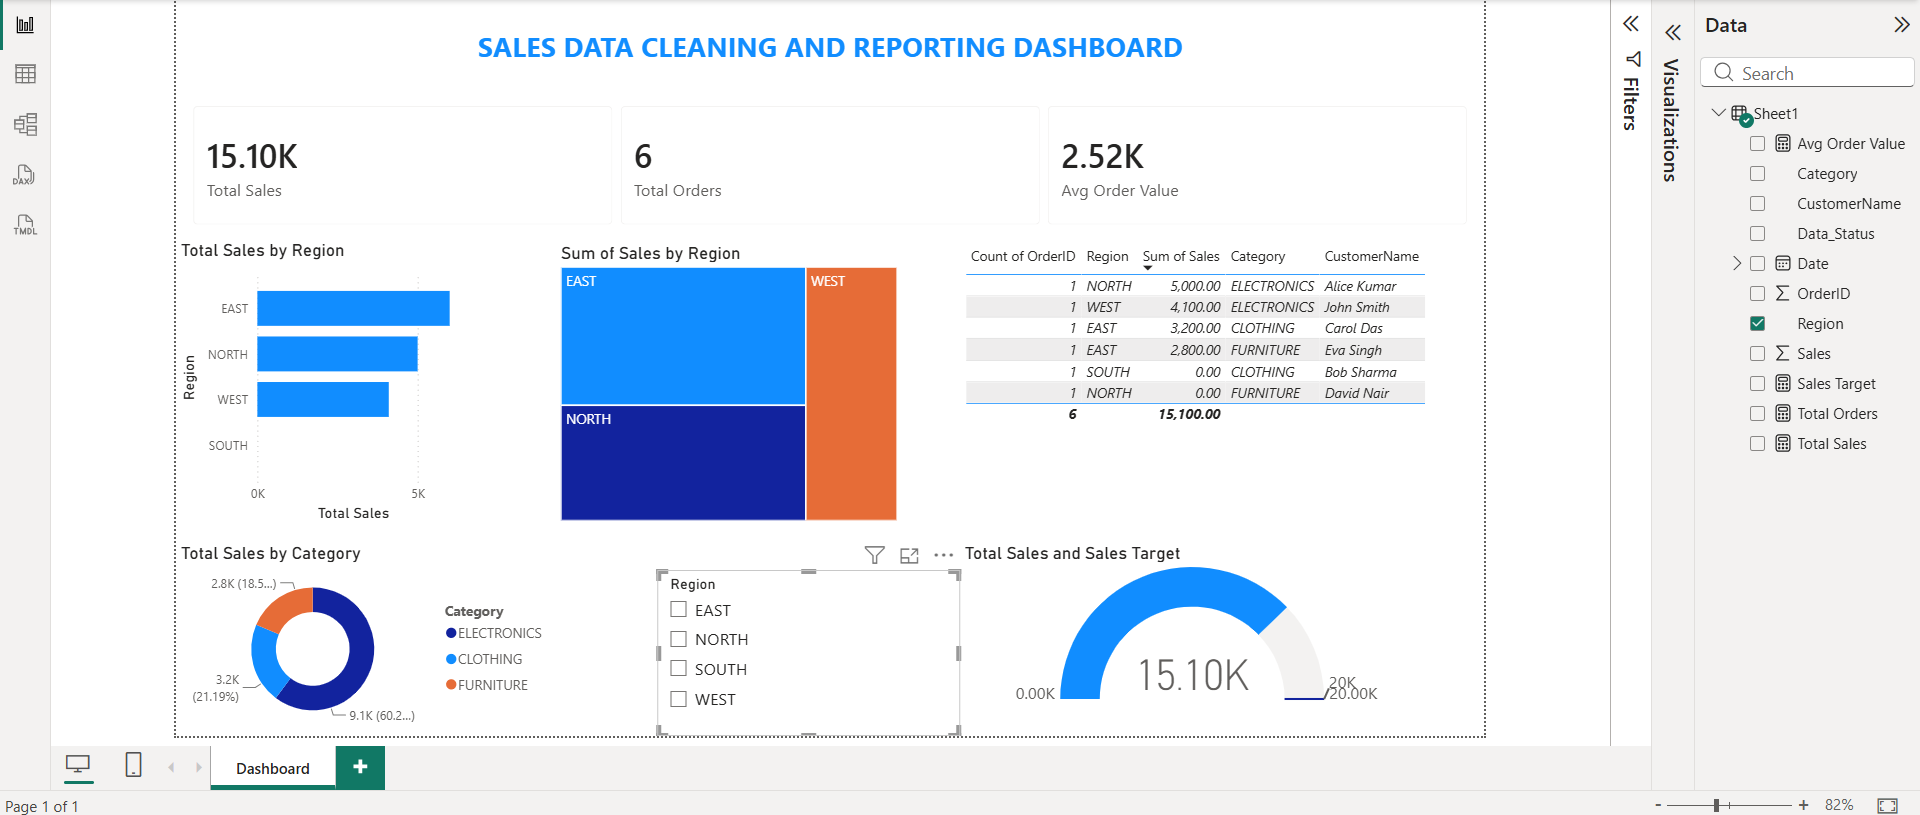

The page's visual inventory and layout, read from the dashboard file:
{"tool":"powerbi","page":{"name":"Page 1","canvas":[1280,720],"ordinal":0},"visuals":[{"type":"cardVisual","fields":{"Data":["Sheet1.Total Sales","Sheet1.Total Orders","Sheet1.Avg Order Value"]},"box":[10,0,280,280],"z":0},{"type":"clusteredBarChart","fields":{"Category":["Sheet1.Region"],"Y":["Sheet1.Total Sales"]},"box":[10,290,280,280],"z":1000},{"type":"donutChart","fields":{"Category":["Sheet1.Category"],"Y":["Sheet1.Total Sales"]},"box":[10,570,280,150],"z":2000},{"type":"lineChart","fields":{"Category":["Sheet1.Date.Variation.Date Hierarchy.Year","Sheet1.Date.Variation.Date Hierarchy.Quarter","Sheet1.Date.Variation.Date Hierarchy.Month","Sheet1.Date.Variation.Date Hierarchy.Day"],"Y":["Sheet1.Total Sales"]},"box":[300,0,280,280],"z":3000},{"type":"tableEx","fields":{"Values":["CountNonNull(Sheet1.OrderID)","Sheet1.CustomerName"]},"box":[300,290,280,280],"z":4000},{"type":"actionButton","box":[0,0,100,40],"z":4001}]}

Visuals, with their boxes on the page's 1280x720 design canvas (x1, y1, x2, y2). These are canvas units, not pixel positions in the 1920x815 screenshot, which may show the page scaled, cropped or inside an application window:
cardVisual - Sheet1.Total Sales x Sheet1.Total Orders: rect(10, 0, 290, 280)
clusteredBarChart - Sheet1.Region x Sheet1.Total Sales: rect(10, 290, 290, 570)
donutChart - Sheet1.Category x Sheet1.Total Sales: rect(10, 570, 290, 720)
lineChart - Sheet1.Date.Variation.Date Hierarchy.Year x Sheet1.Date.Variation.Date Hierarchy.Quarter: rect(300, 0, 580, 280)
tableEx - CountNonNull(Sheet1.OrderID) x Sheet1.CustomerName: rect(300, 290, 580, 570)
actionButton: rect(0, 0, 100, 40)
